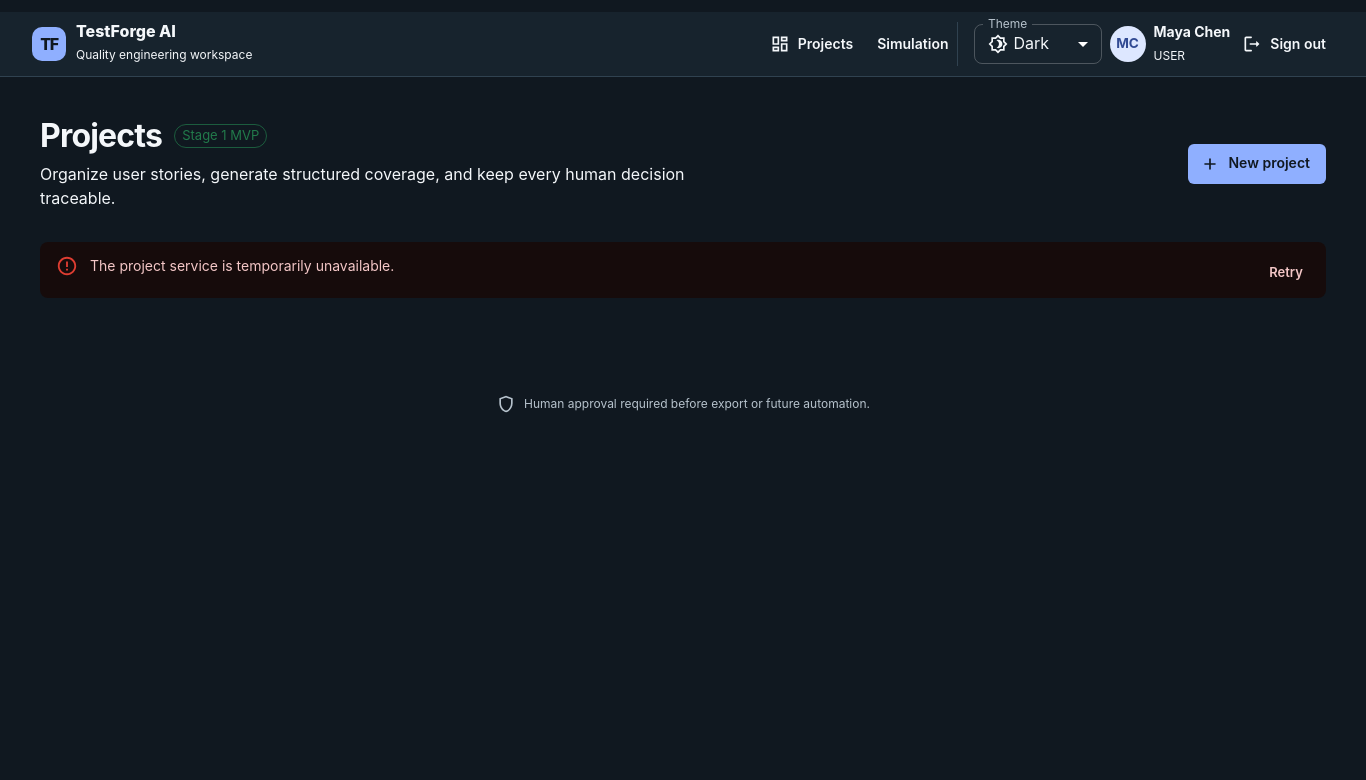
Test case: TestForge application › recovers the projects page after a temporary API outage
Expected: the text "The project service is temporarily unavailable." is shown, [90,257,394,274]
Click the button "Retry".
click(1286, 272)  # box [1254,252,1318,292]
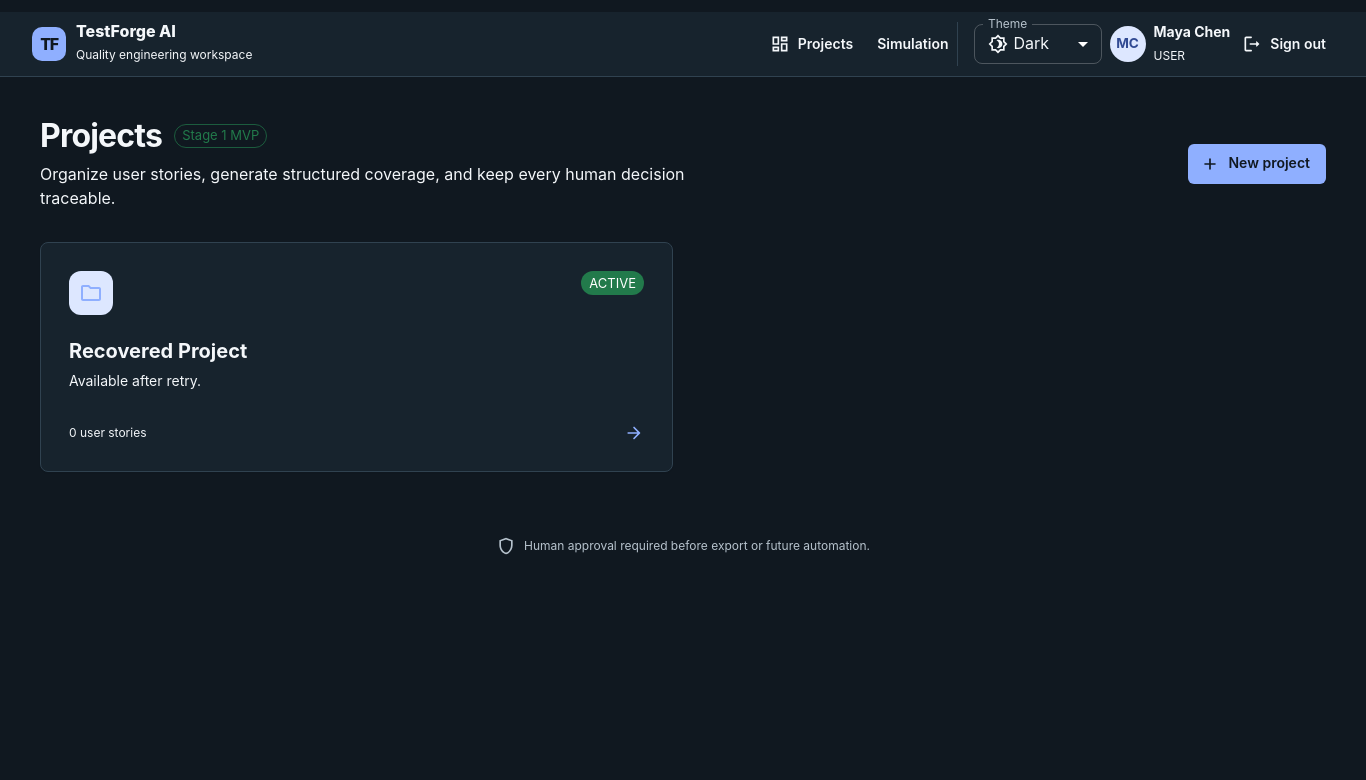
Now the heading "Recovered Project" is shown, box [69,339,247,363]
